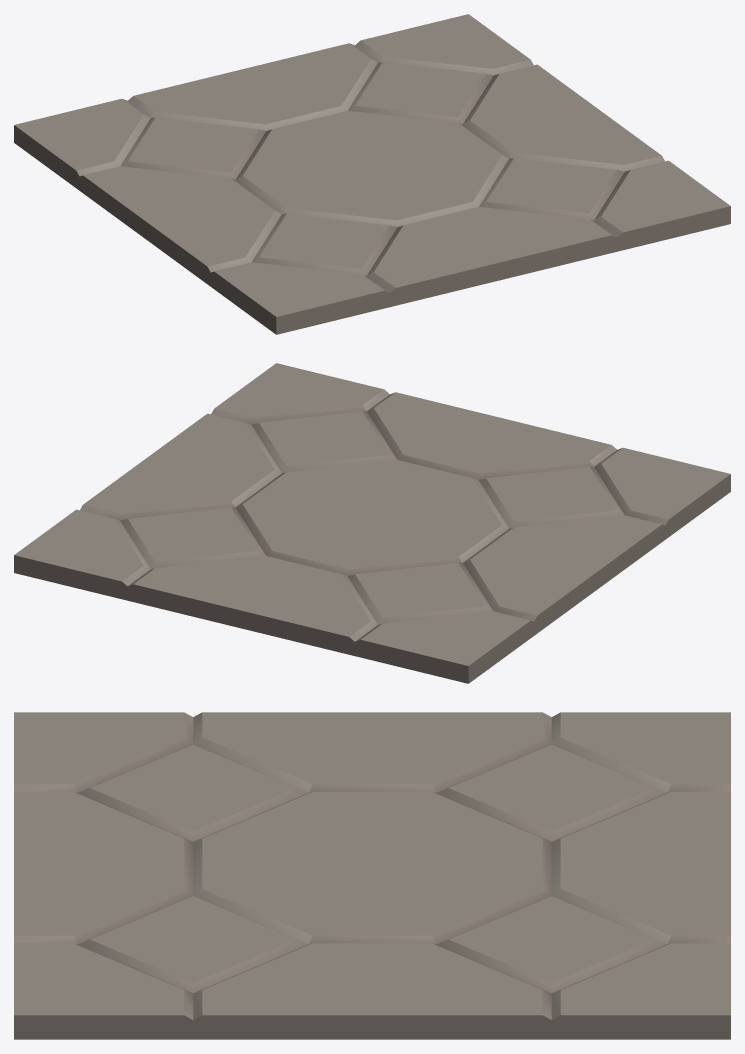
Rendered from floor_tile_large.glb.
3 renders of one model, top to bottom at view 1: azimuth 30°, elevation 25°; view 2: azimuth 150°, elevation 25°; view 3: azimuth 270°, elevation 25°, orthographic. The views are drawn at different scales.
Parts seen in each view (by area): view 1: floor_tile_large; view 2: floor_tile_large; view 3: floor_tile_large.
Part boxes in pixels (left/top/right/bottom): floor_tile_large: left=14, top=14, right=730, bottom=334; floor_tile_large: left=14, top=363, right=730, bottom=683; floor_tile_large: left=14, top=712, right=730, bottom=1039.
Size of the model in its own units: 4 by 0.15 by 4.
1 material, 1 textured.
